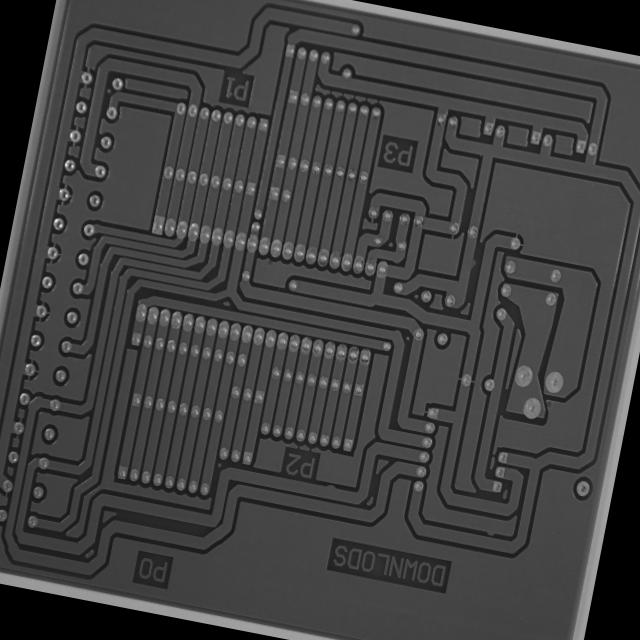spur: (322, 479, 341, 497), (482, 521, 500, 539), (466, 252, 480, 274)
